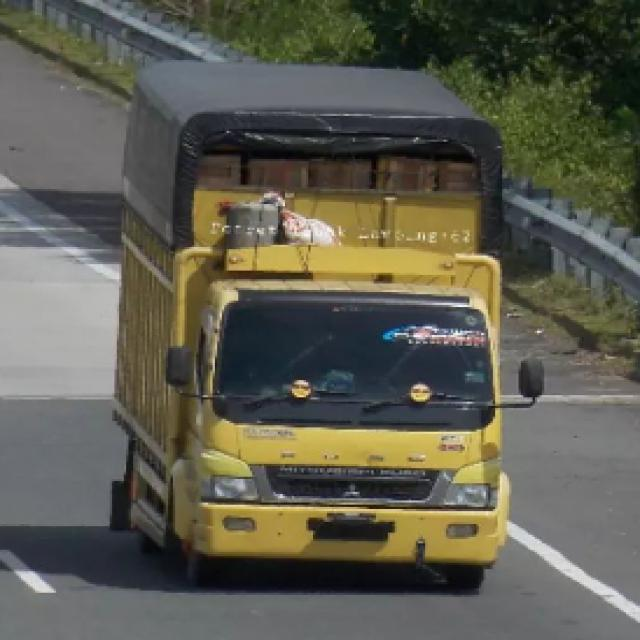Truck: (101, 52, 560, 589)
